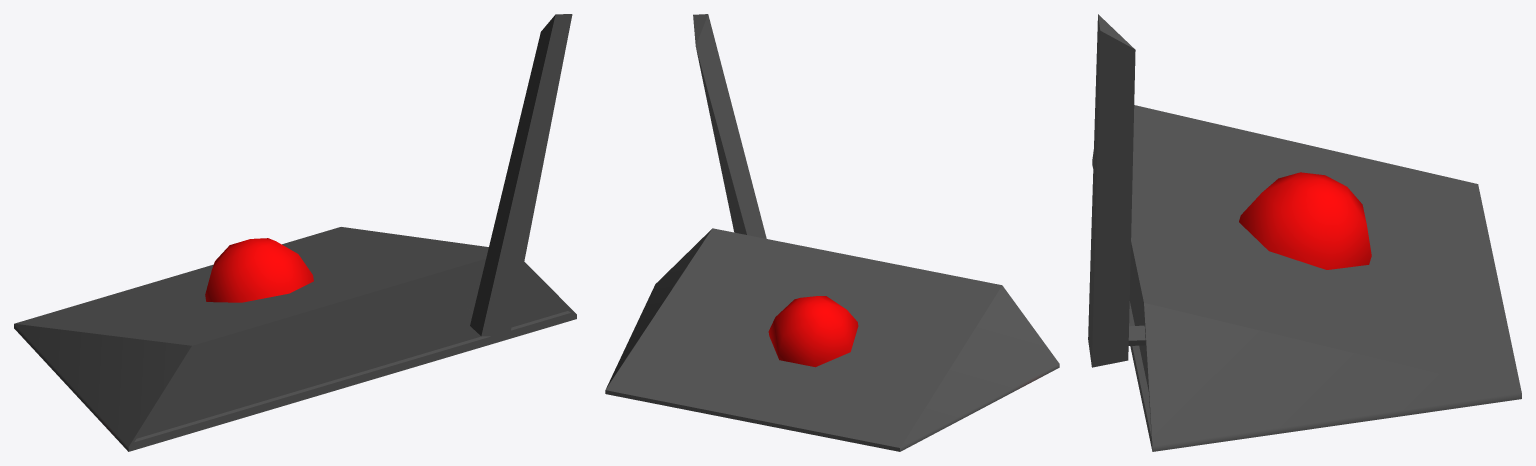
File: Router.fbx
3 renders of one model, left to right at view 1: azimuth 30°, elevation 25°; view 2: azimuth 150°, elevation 25°; view 3: azimuth 270°, elevation 25°, orthographic. The views are drawn at different scales.
Visible parts, largest first — view 1: pCube8; view 2: pCube8; view 3: pCube8.
Part boxes in pixels (x1,y1,x2,y2): pCube8: (14, 14, 576, 451); pCube8: (605, 14, 1059, 451); pCube8: (1088, 14, 1521, 451).
Bounding box in the file's own units: 52.03 × 34.87 × 33.28.
1 material, 1 textured.
